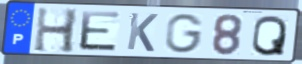8: (212, 13, 245, 57)
E: (78, 9, 123, 53)
G: (164, 12, 206, 55)
H: (32, 6, 81, 54)
K: (125, 11, 160, 54)
Q: (250, 14, 289, 58)
